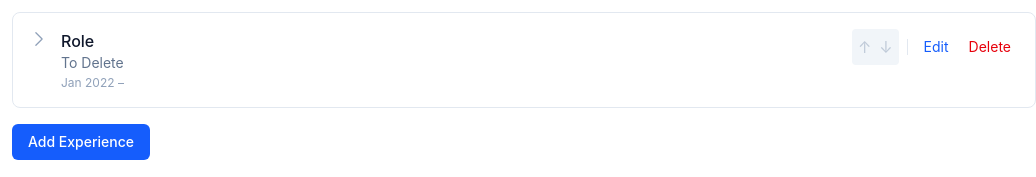
Test: ExperienceSection › deletes an experience
Expected: the text "To Delete" is shown, x1=61 y1=53 x2=124 y2=73
What coordinates should you click on to do the following:
click the button "Delete"
I would click on:
 (990, 47)
Its box is x1=961 y1=33 x2=1019 y2=61.
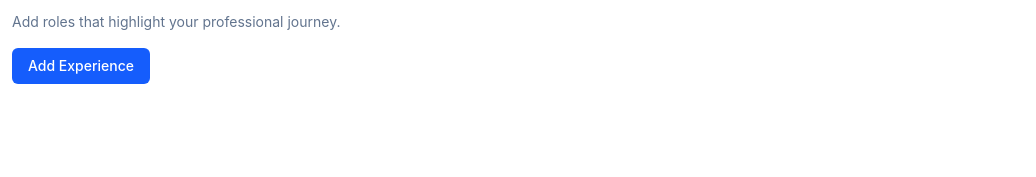
Expected: the button "To Delete" is gone
Expected: the text "Add roles that highlight your professional journey." is shown, x1=12 y1=13 x2=340 y2=30
